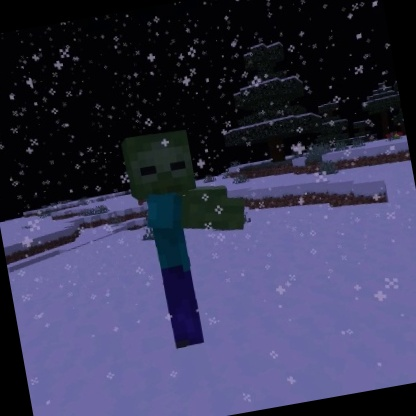zombie: (113, 113, 274, 359)
